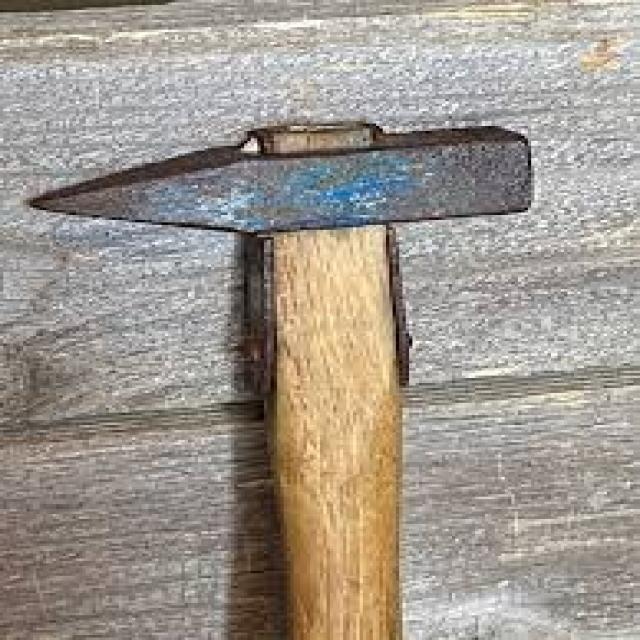hammer: (24, 108, 552, 640)
